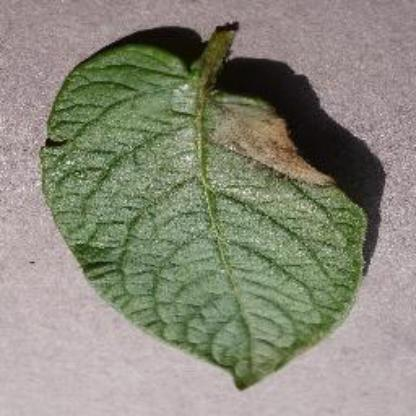Late-Blight: (38, 25, 369, 390)
